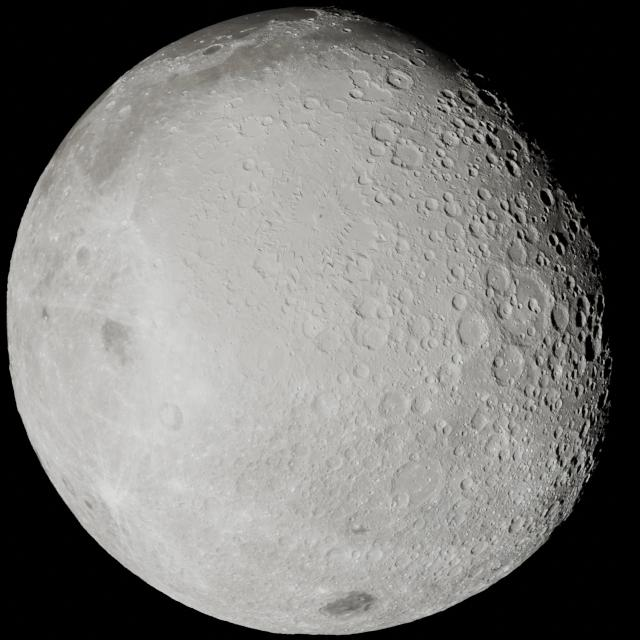crater: (546, 302, 572, 334), (384, 65, 411, 94), (369, 120, 394, 142), (586, 328, 601, 363), (481, 86, 498, 114), (537, 184, 555, 209), (566, 215, 582, 243), (457, 86, 476, 106), (512, 193, 530, 210), (578, 293, 592, 314), (573, 306, 585, 330), (440, 85, 452, 105), (464, 164, 478, 181), (512, 209, 526, 226), (484, 131, 498, 147), (497, 198, 509, 216), (505, 160, 520, 174), (488, 208, 498, 228), (478, 185, 489, 201), (502, 148, 518, 158), (577, 329, 585, 347), (464, 116, 474, 130), (486, 155, 496, 168), (548, 232, 556, 246), (555, 242, 563, 256)
rock: (394, 75, 404, 86)
